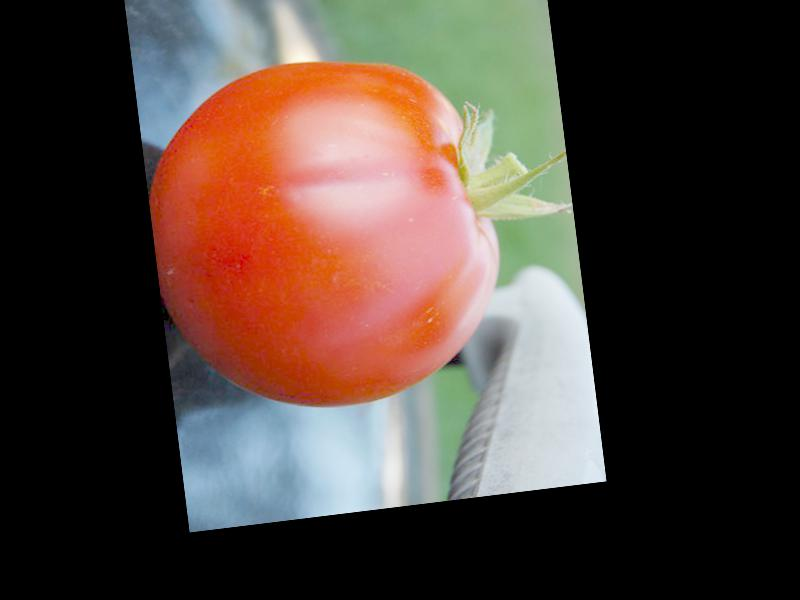Tomato: (134, 40, 515, 427)
